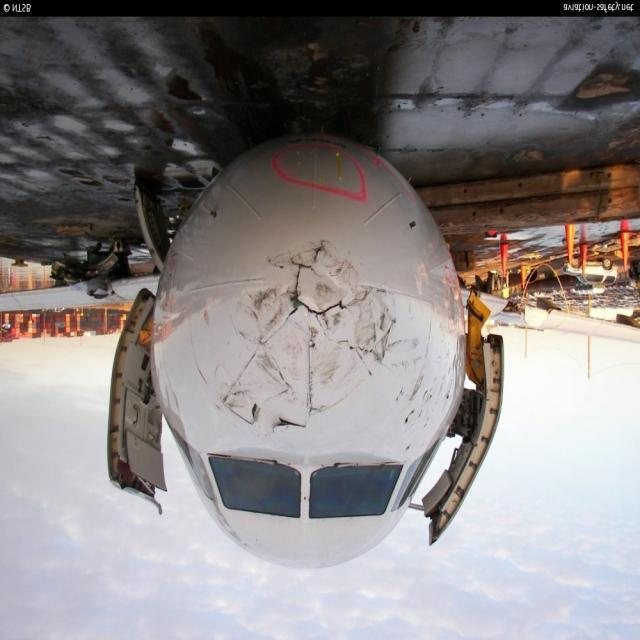crack: (217, 235, 401, 438)
